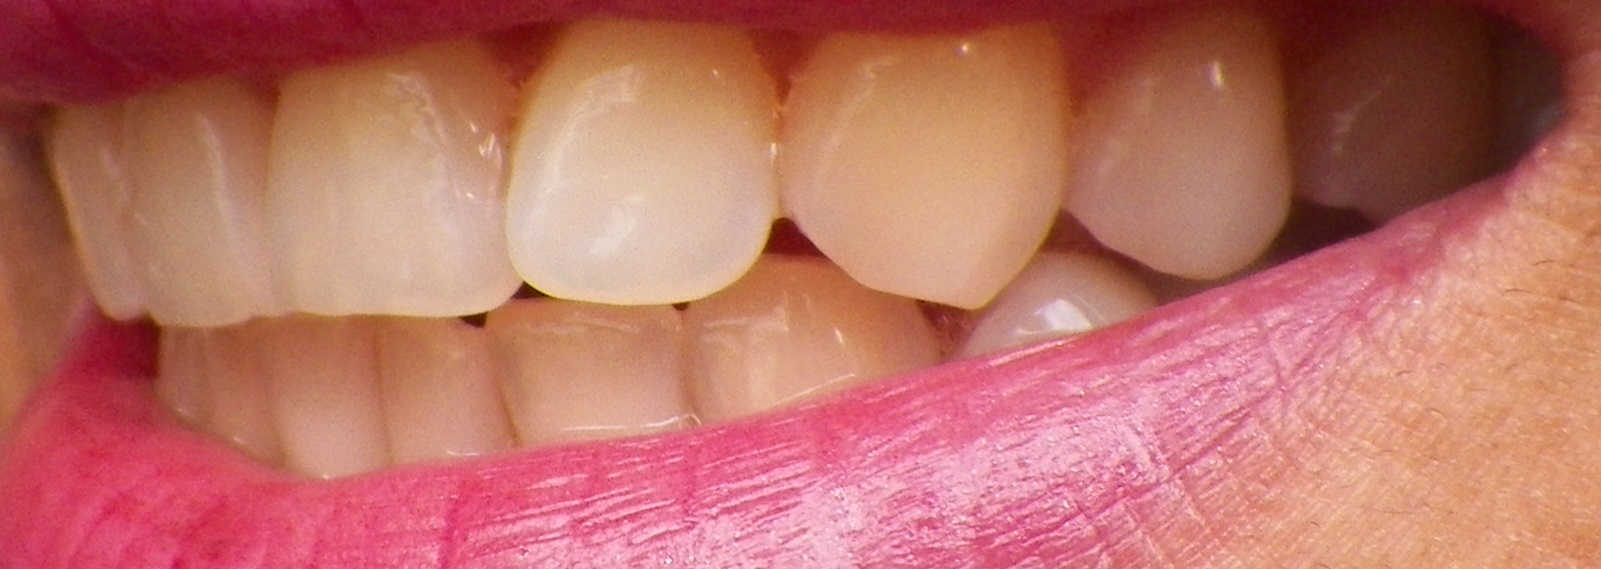boca: (22, 30, 1537, 453)
